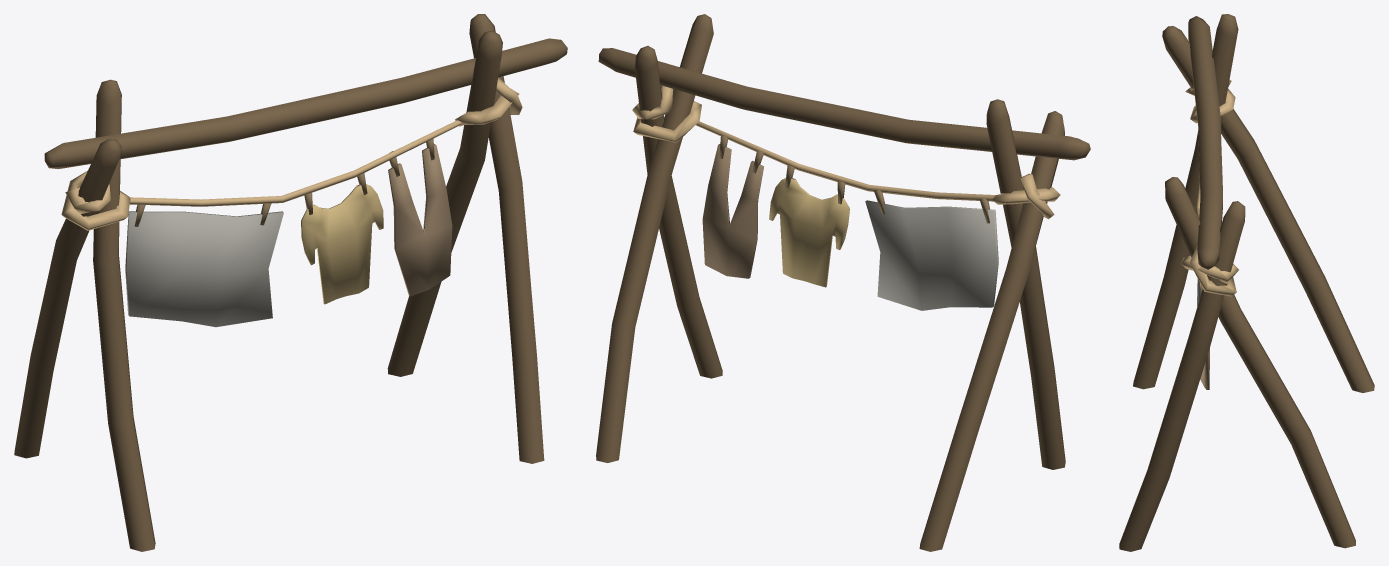
Rendered from rpgpp_lt_hanger_clothes_01 -col.glb.
The picture shows the model from 3 angles, left to right: view 1: azimuth 30°, elevation 25°; view 2: azimuth 150°, elevation 25°; view 3: azimuth 270°, elevation 25°; orthographic projection. The views are drawn at different scales.
Visible parts, largest first — view 1: rpgpp_lt_hanger_clothes_01 -col; view 2: rpgpp_lt_hanger_clothes_01 -col; view 3: rpgpp_lt_hanger_clothes_01 -col.
Boxes of the visible parts, bbox=[...] form: rpgpp_lt_hanger_clothes_01 -col: bbox=[14, 14, 567, 551]; rpgpp_lt_hanger_clothes_01 -col: bbox=[596, 14, 1090, 551]; rpgpp_lt_hanger_clothes_01 -col: bbox=[1119, 14, 1374, 551].
Size of the model in its own units: 3.68 by 2.85 by 1.75.
1 material, 1 textured.
